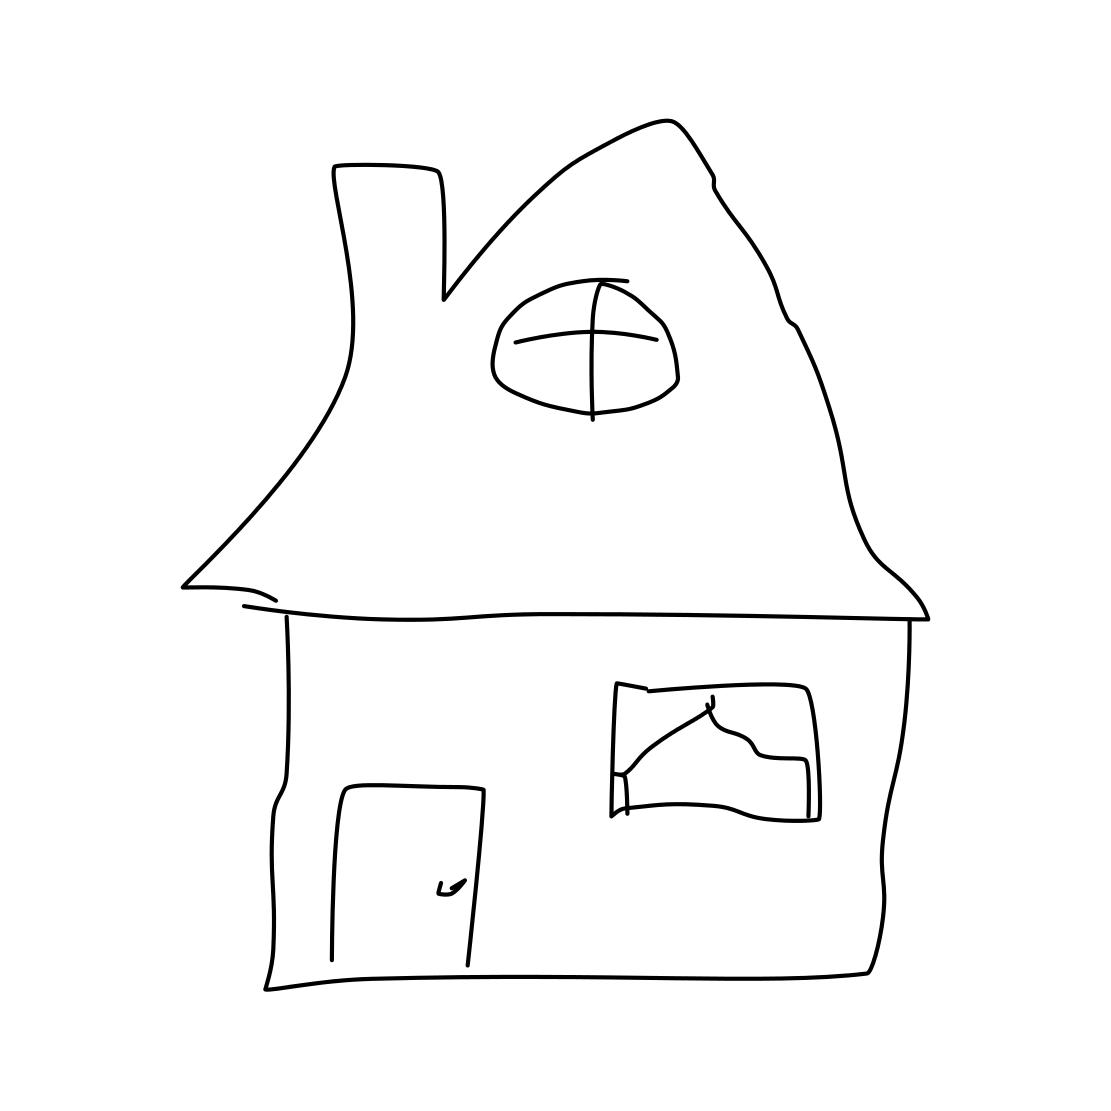House: (101, 74, 1008, 998)
